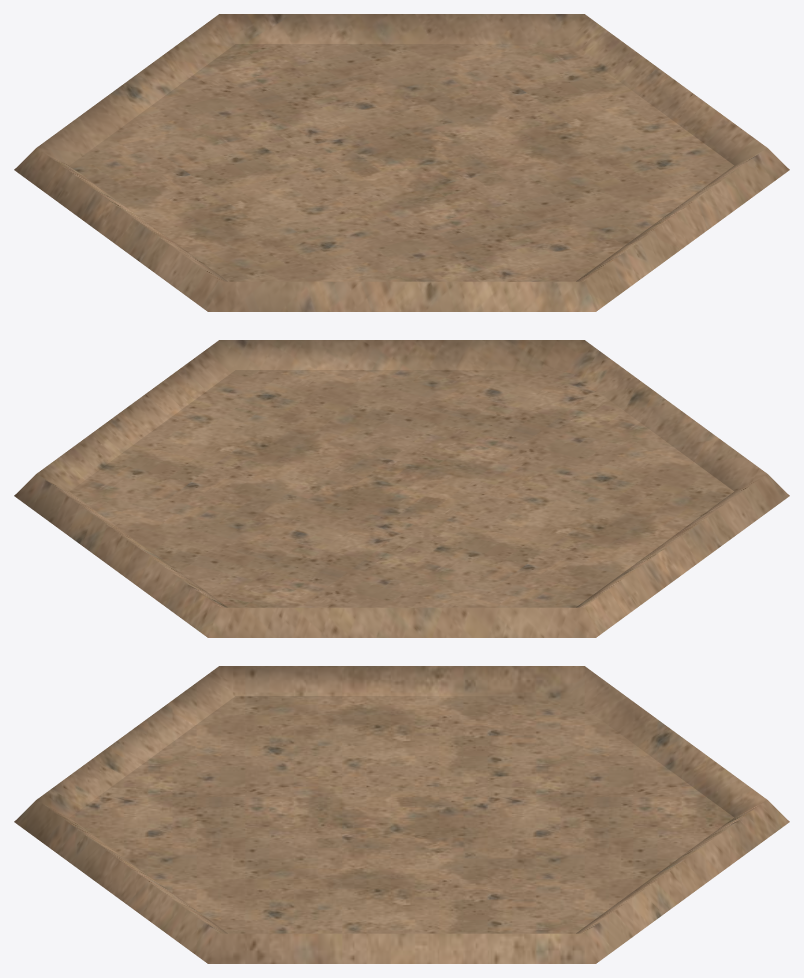
File: dirt.glb
3 views of the same model, one above another, from view 1: azimuth 30°, elevation 25°; view 2: azimuth 150°, elevation 25°; view 3: azimuth 270°, elevation 25° (orthographic).
Parts seen in each view (by area): view 1: HexagonTile.008; view 2: HexagonTile.008; view 3: HexagonTile.008.
Boxes of the visible parts, box(x1,y1,x2,y2) form: HexagonTile.008: box(14, 14, 789, 311); HexagonTile.008: box(14, 340, 789, 637); HexagonTile.008: box(14, 666, 789, 963).
Size of the model in its own units: 1.73 by 0.0631 by 2.
1 material, 1 textured.
